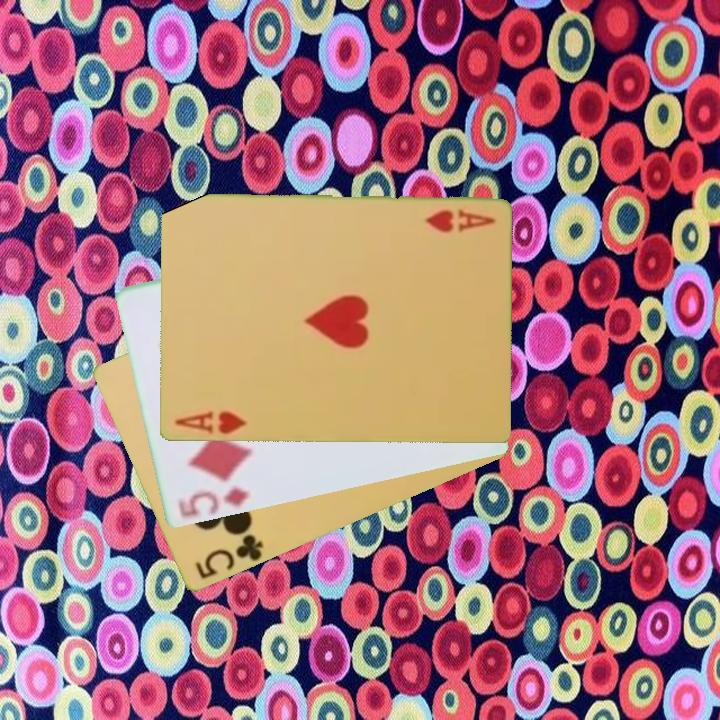5c: (191, 531, 266, 583)
5d: (177, 483, 253, 521)
Ah: (171, 407, 249, 437), (421, 206, 498, 234)
